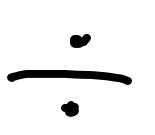div: (7, 34, 132, 117)
